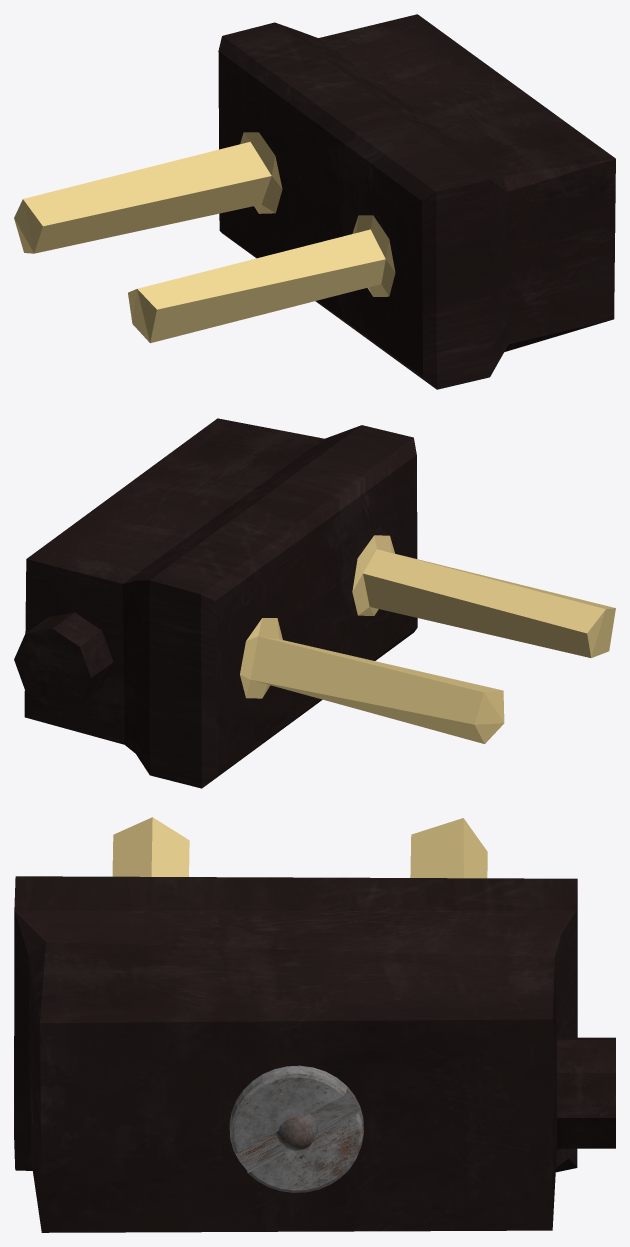
The model's file is PlugBoardPlug5.fbx.
The picture shows the model from 3 angles, top to bottom: view 1: azimuth 30°, elevation 25°; view 2: azimuth 150°, elevation 25°; view 3: azimuth 270°, elevation 25°; orthographic projection. The views are drawn at different scales.
Parts seen in each view (by area): view 1: PlugBoardPlug; view 2: PlugBoardPlug; view 3: PlugBoardPlug.
Boxes of the visible parts, x1,y1,x2,y2 form: PlugBoardPlug: (14, 14, 615, 389); PlugBoardPlug: (14, 418, 615, 788); PlugBoardPlug: (14, 817, 615, 1232).
Size of the model in its own units: 300 by 125 by 263.
